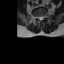CCS_normal: (40, 15, 41, 22)
LFS_normal: (43, 13, 45, 20)
LLS_normal: (41, 15, 43, 21)
RFS_normal: (36, 14, 38, 20)
RLS_normal: (38, 15, 40, 21)
